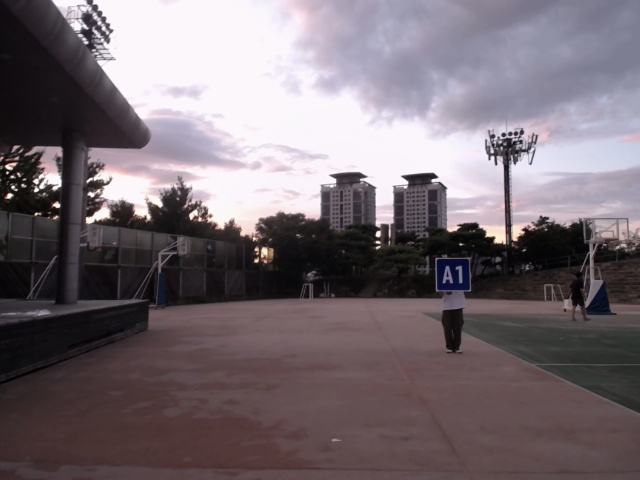delivery_a1: (436, 259, 470, 291)
